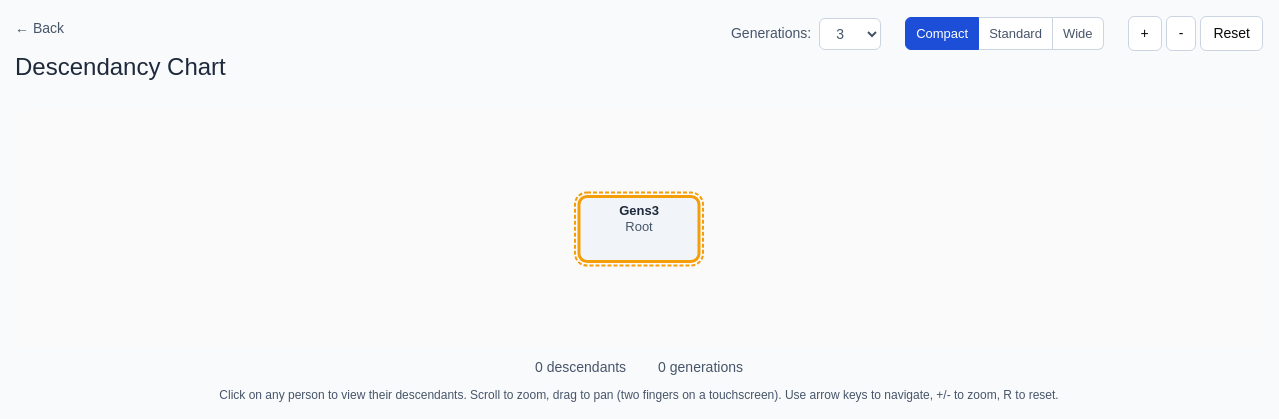
Test: Descendancy page: stale responses (#947) › ignores a load that resolves after a newer one
Select "5" in the dropdown labelled "Generations:": (850, 34) [819,18,881,50]
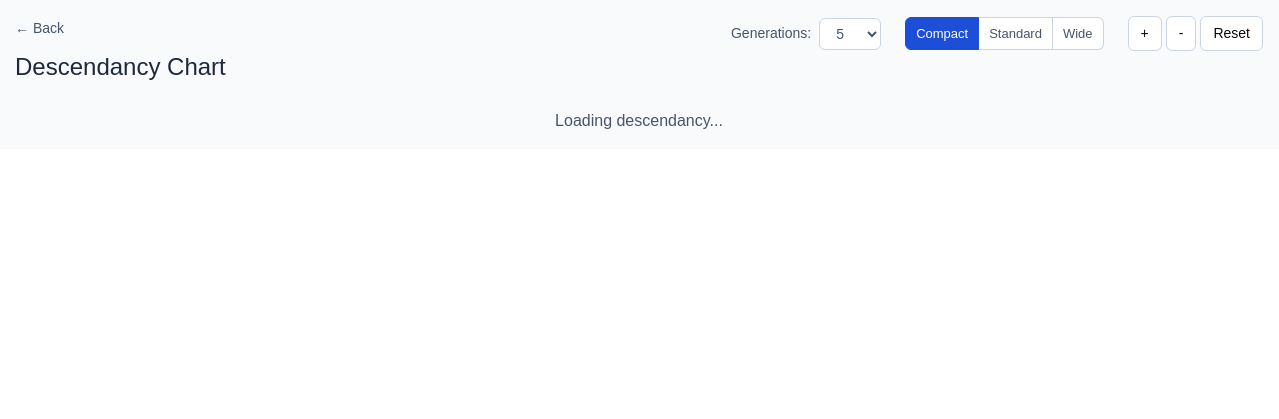
Select "6" in the dropdown labelled "Generations:": (850, 34) [819,18,881,50]
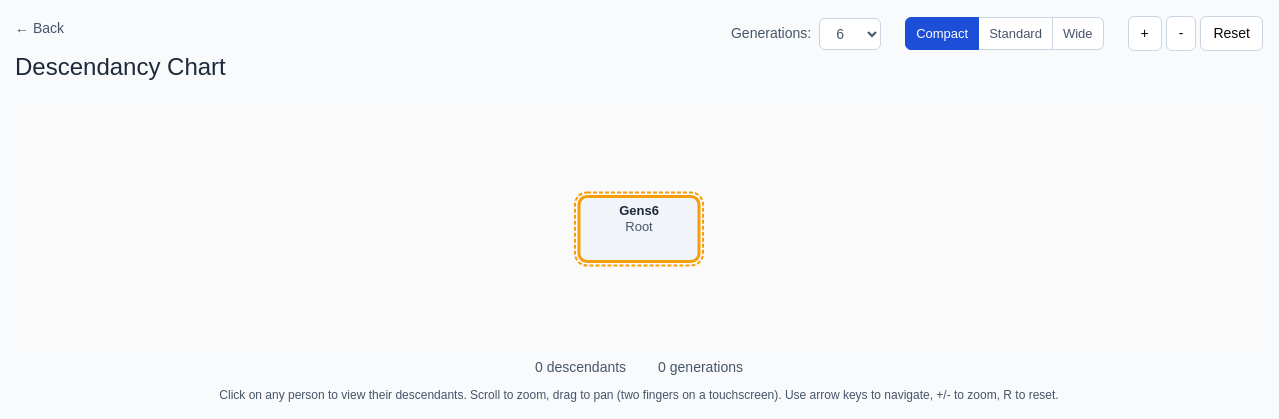
Expected: the text "Gens6" is shown, [619,202,659,218]
